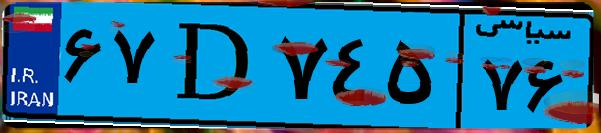4: (330, 28, 385, 110)
5: (385, 28, 445, 110)
6: (57, 26, 110, 100), (525, 38, 570, 115)
7: (270, 28, 330, 110), (475, 38, 525, 113), (110, 28, 158, 98)
D: (158, 12, 270, 120)
